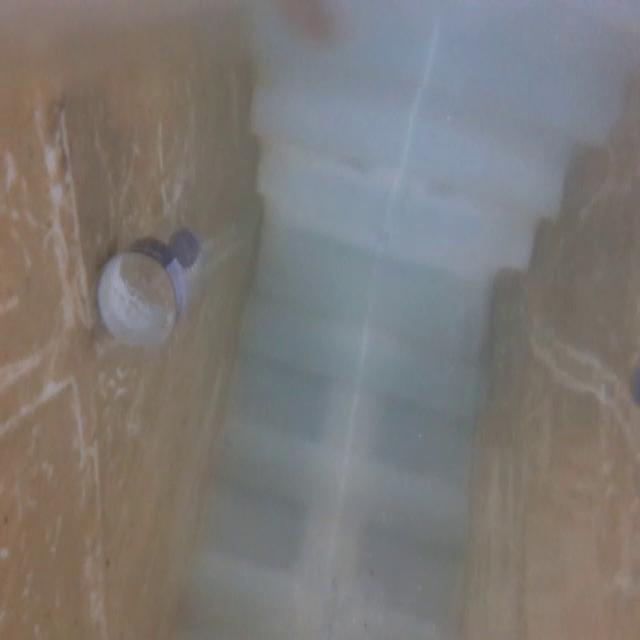plastic bottle: (77, 224, 215, 391)
